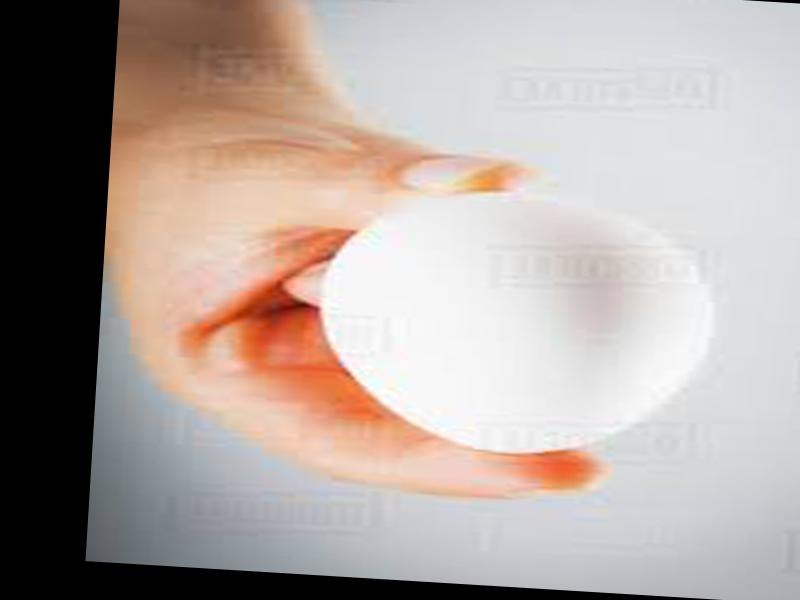Eggs: (328, 182, 715, 466)
